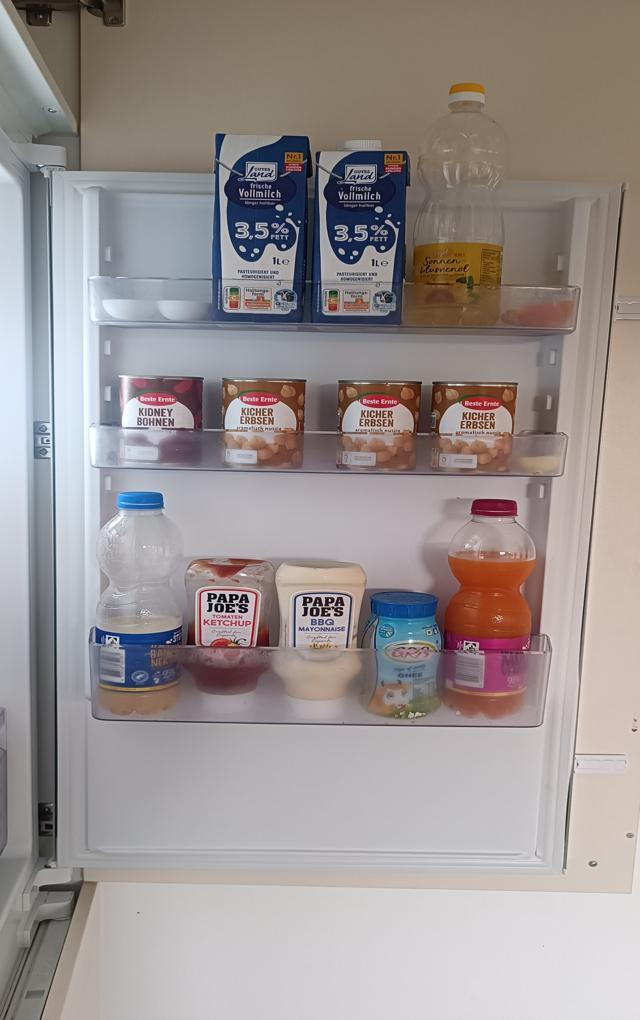bananajuice: (95, 491, 188, 716)
chickpeas: (335, 380, 425, 473), (431, 380, 517, 473), (221, 378, 301, 470)
ghee: (364, 593, 442, 721)
kidneybeans: (117, 373, 205, 470)
mayoniasie: (272, 560, 363, 720)
milk: (214, 133, 310, 329), (314, 140, 410, 329)
oil: (410, 85, 508, 327)
orangejuice: (444, 497, 534, 718)
tomatoketchup: (181, 556, 277, 714)
